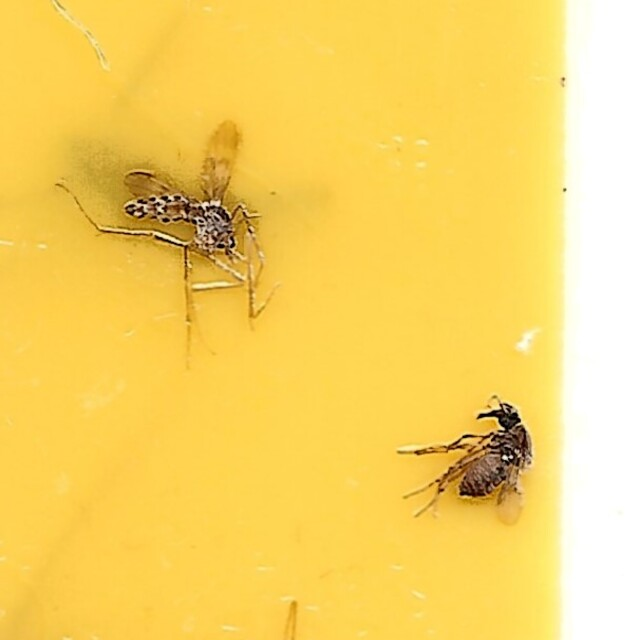Brachycera: (397, 405, 534, 530)
Nematocera: (106, 110, 280, 319)
